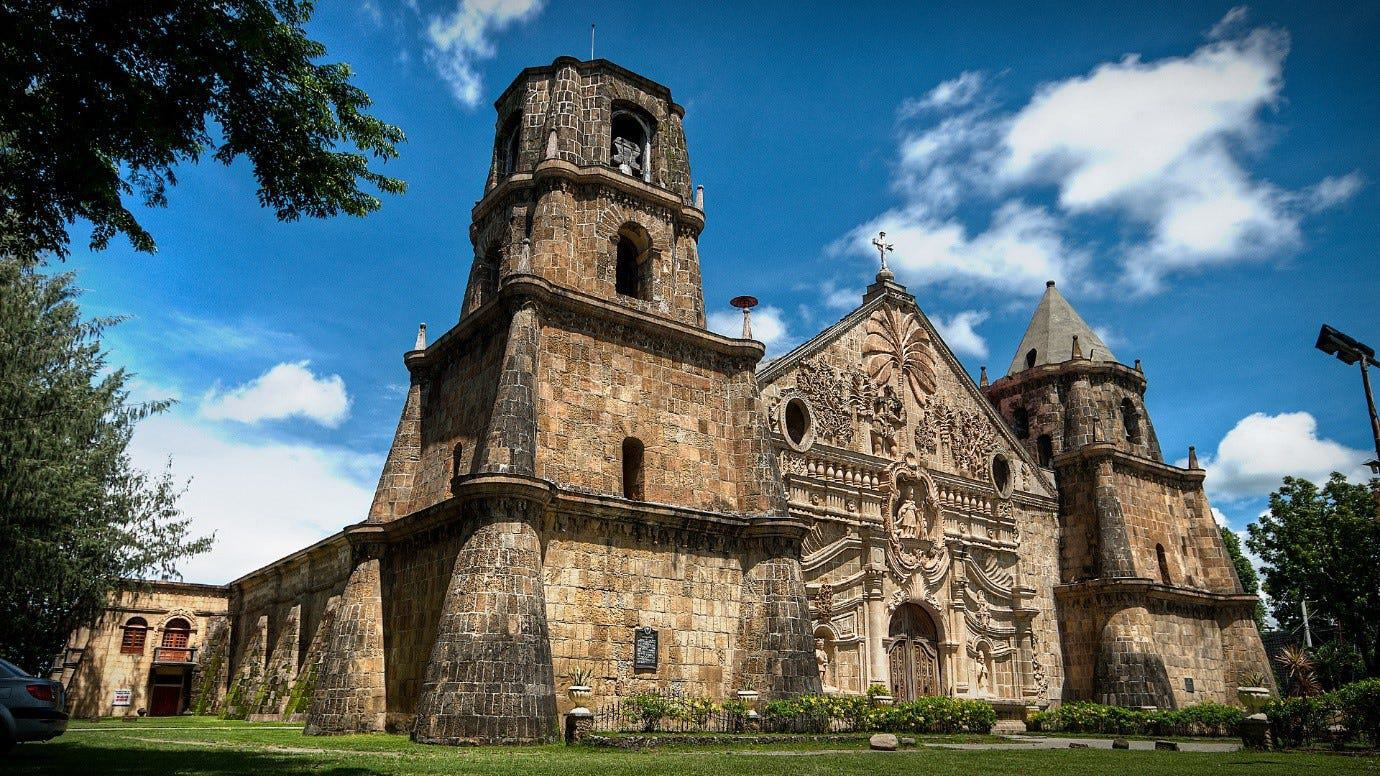miagao_church_miagao_iloilo: (385, 15, 1290, 732)
